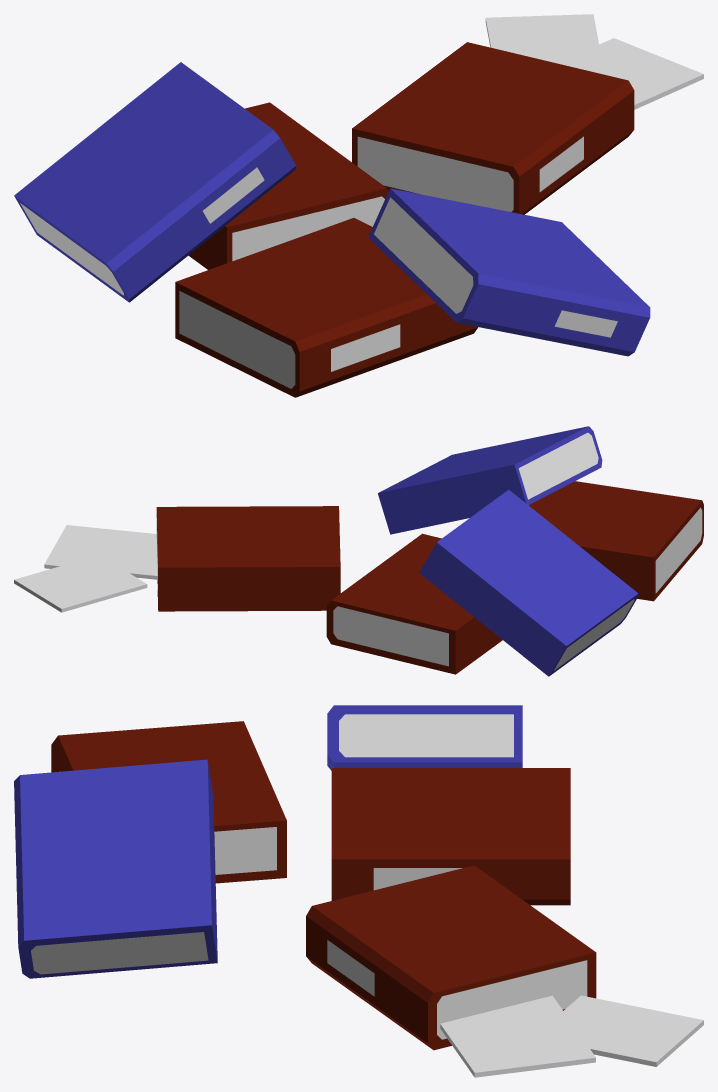
The model's file is pile livre.fbx.
3 renders of one model, top to bottom at view 1: azimuth 30°, elevation 25°; view 2: azimuth 150°, elevation 25°; view 3: azimuth 270°, elevation 25°, orthographic. The views are drawn at different scales.
Parts seen in each view (by area): view 1: pile_livre; view 2: pile_livre; view 3: pile_livre.
Part boxes in pixels (<box>): pile_livre: <box>14,14,703,397</box>; pile_livre: <box>14,426,703,676</box>; pile_livre: <box>14,705,703,1077</box>.
Bounding box in the file's own units: 0.8909 × 0.2144 × 0.7835.
